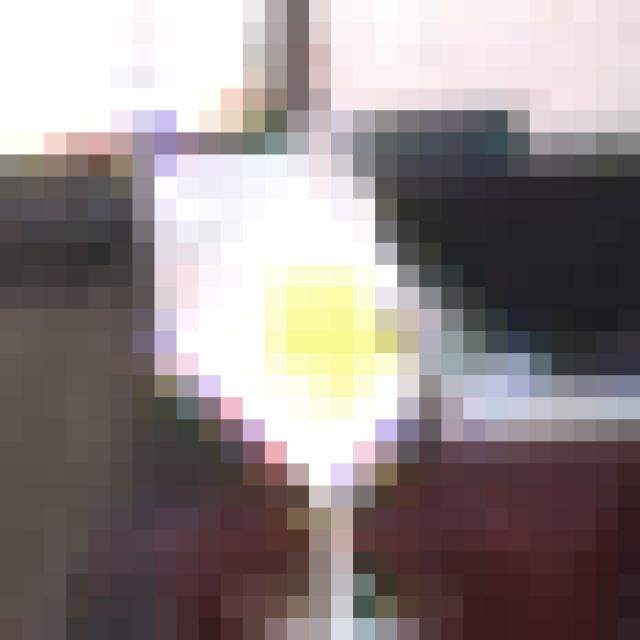Main Road: (111, 111, 531, 531)
